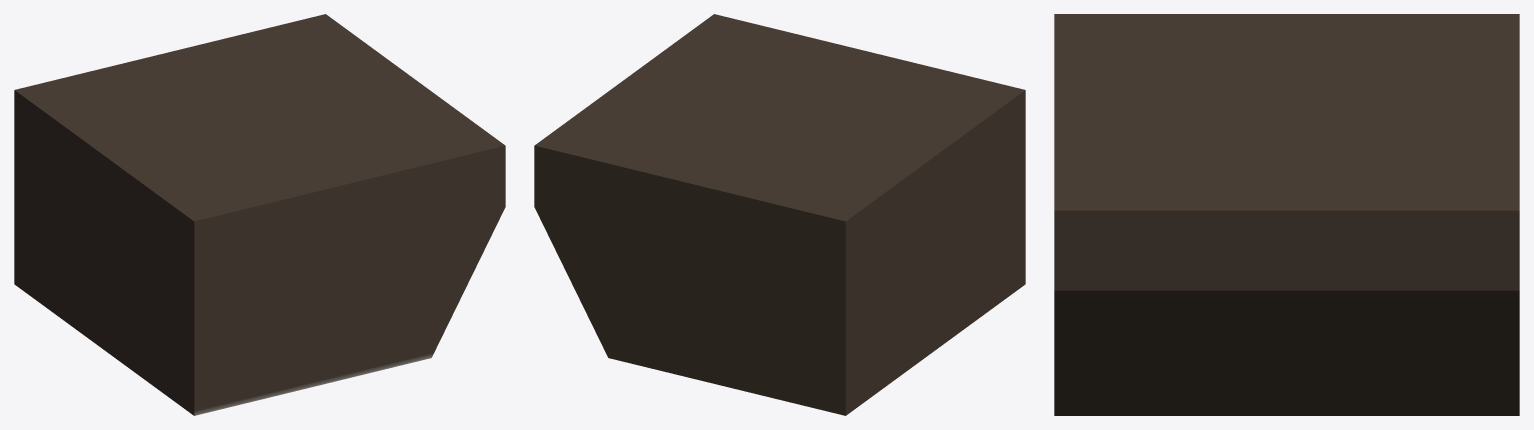
Rendered from Wall_Top_Basic.fbx.
3 views of the same model, side by side, from view 1: azimuth 30°, elevation 25°; view 2: azimuth 150°, elevation 25°; view 3: azimuth 270°, elevation 25° (orthographic). The views are drawn at different scales.
Parts seen in each view (by area): view 1: pCube2; view 2: pCube2; view 3: pCube2.
Part boxes in pixels (<box>): pCube2: <box>14,14,505,415</box>; pCube2: <box>534,14,1025,415</box>; pCube2: <box>1054,14,1519,415</box>.
Bounding box in the file's own units: 100 × 59.7 × 100.
Materials: 1 (1 with a texture image).
